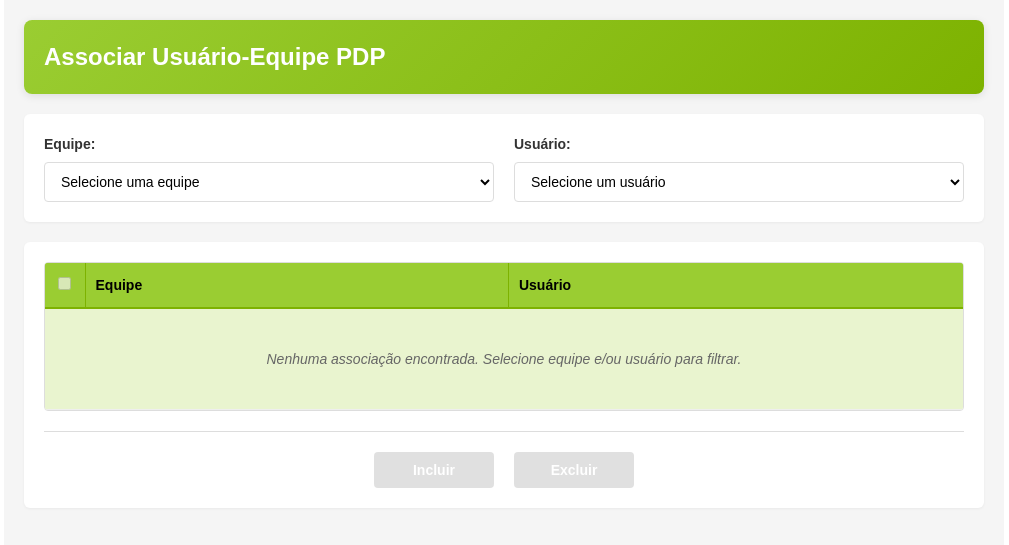
Test case: UserTeamAssociation Component › Seleção de Itens › deve selecionar todos os itens ao marcar "Selecionar Todos"
The image size is (1009, 545).
Select "EQUIPE ALPHA" in the dropdown with test id "equipe-select" at (269, 182), box 44,162 -> 494,202
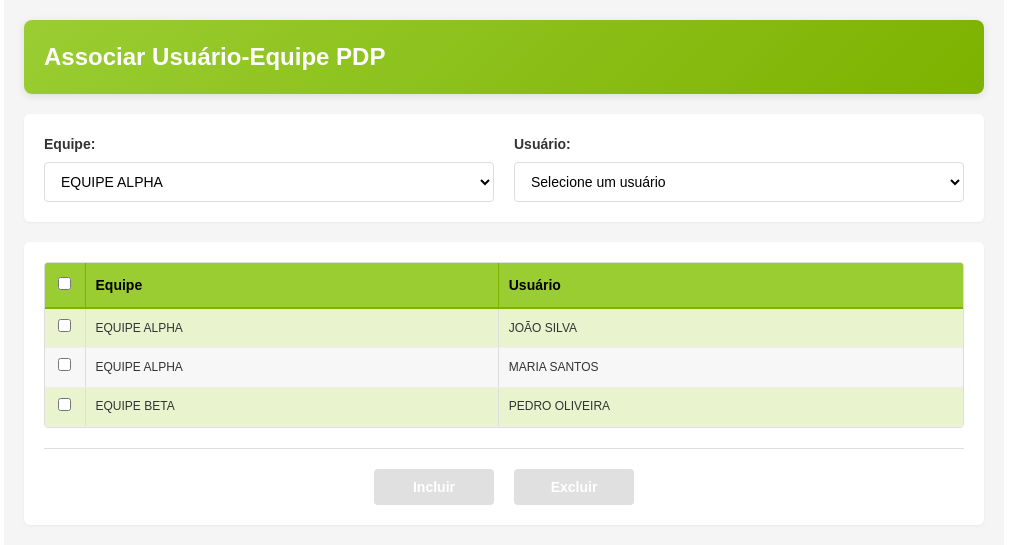
Click the checkbox with test id "select-all-checkbox" at (65, 284), box 58,277 -> 71,290
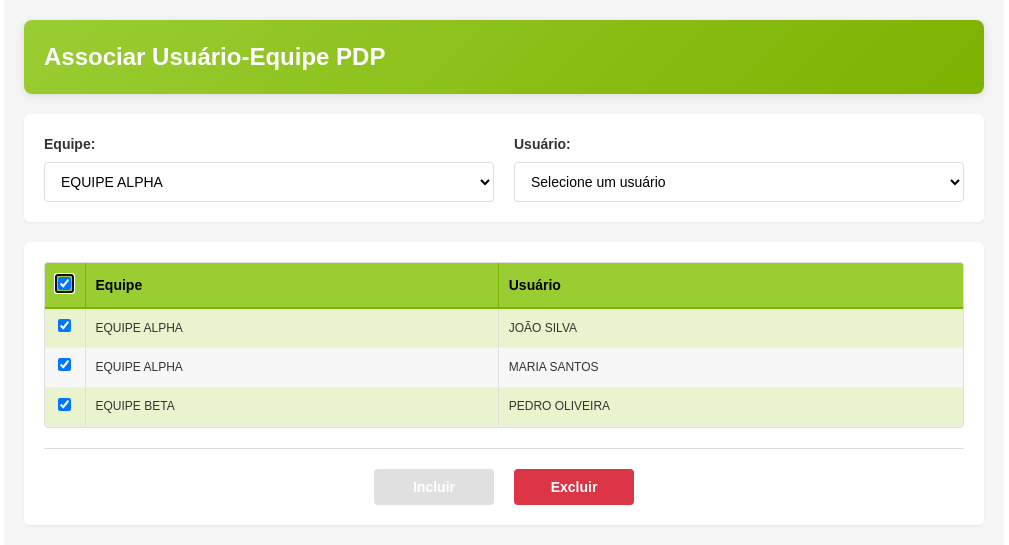
Expected: the checkbox with test id "checkbox-1" is checked, 58,319 -> 71,332
Expected: the checkbox with test id "checkbox-2" is checked, 58,358 -> 71,371
Expected: the checkbox with test id "checkbox-3" is checked, 58,398 -> 71,411
